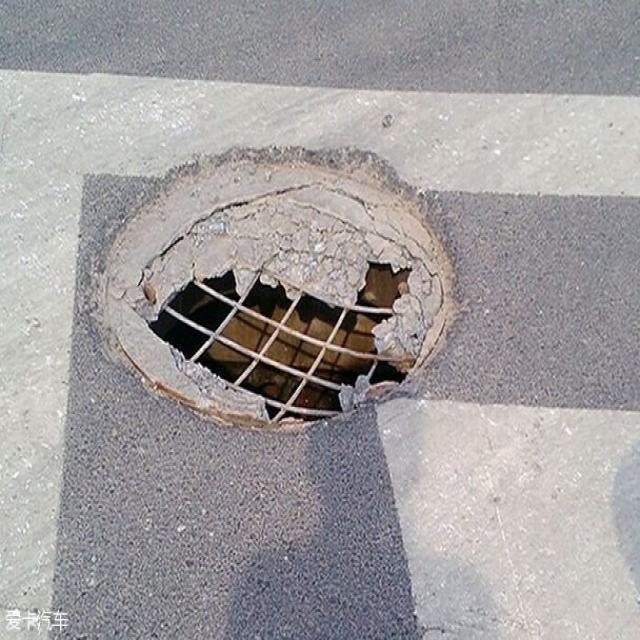manhole-cover: (82, 122, 463, 446)
